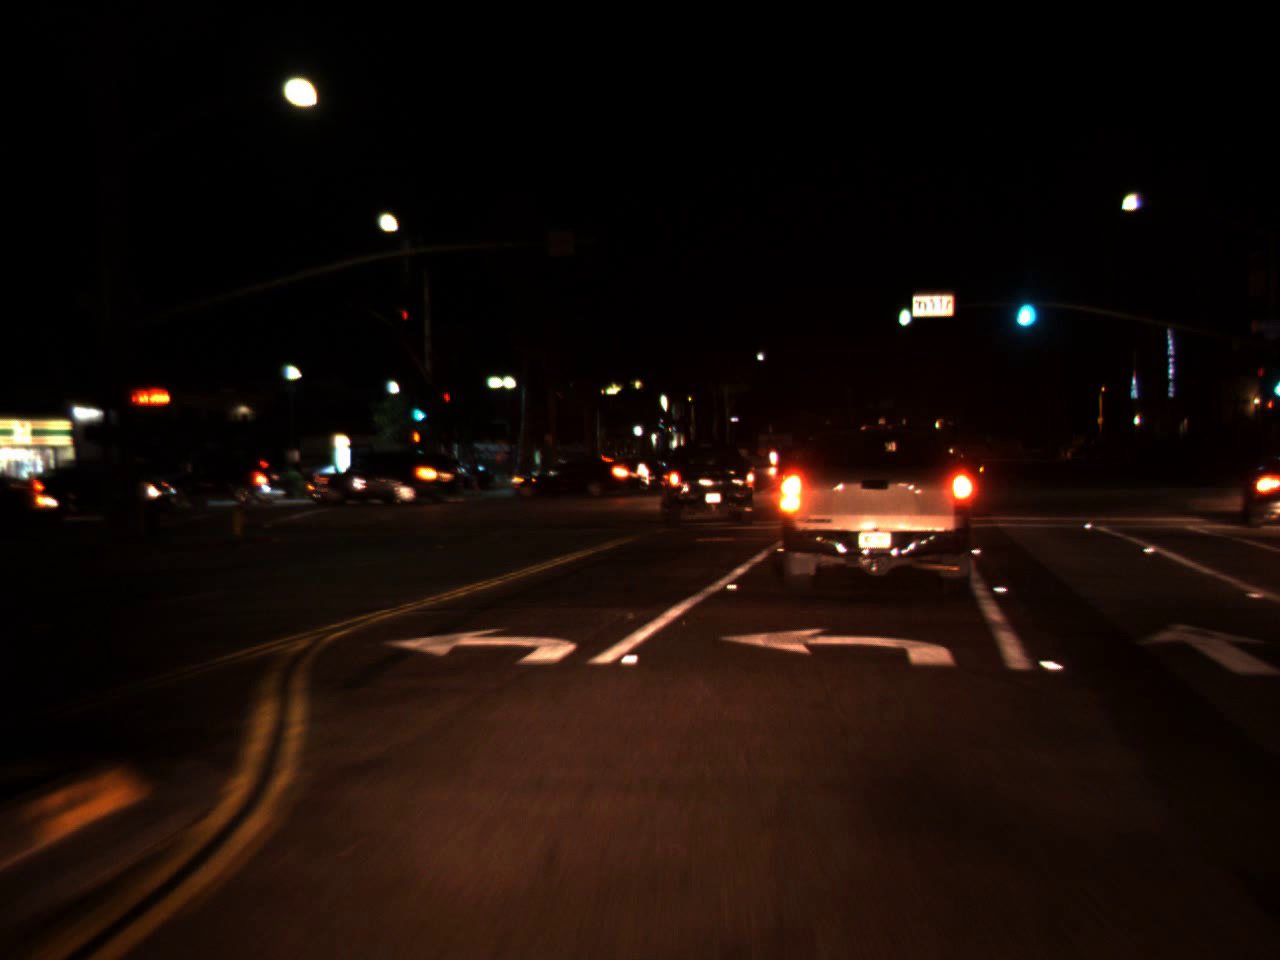go: (1008, 277, 1040, 334), (894, 289, 915, 331), (408, 389, 429, 425)
